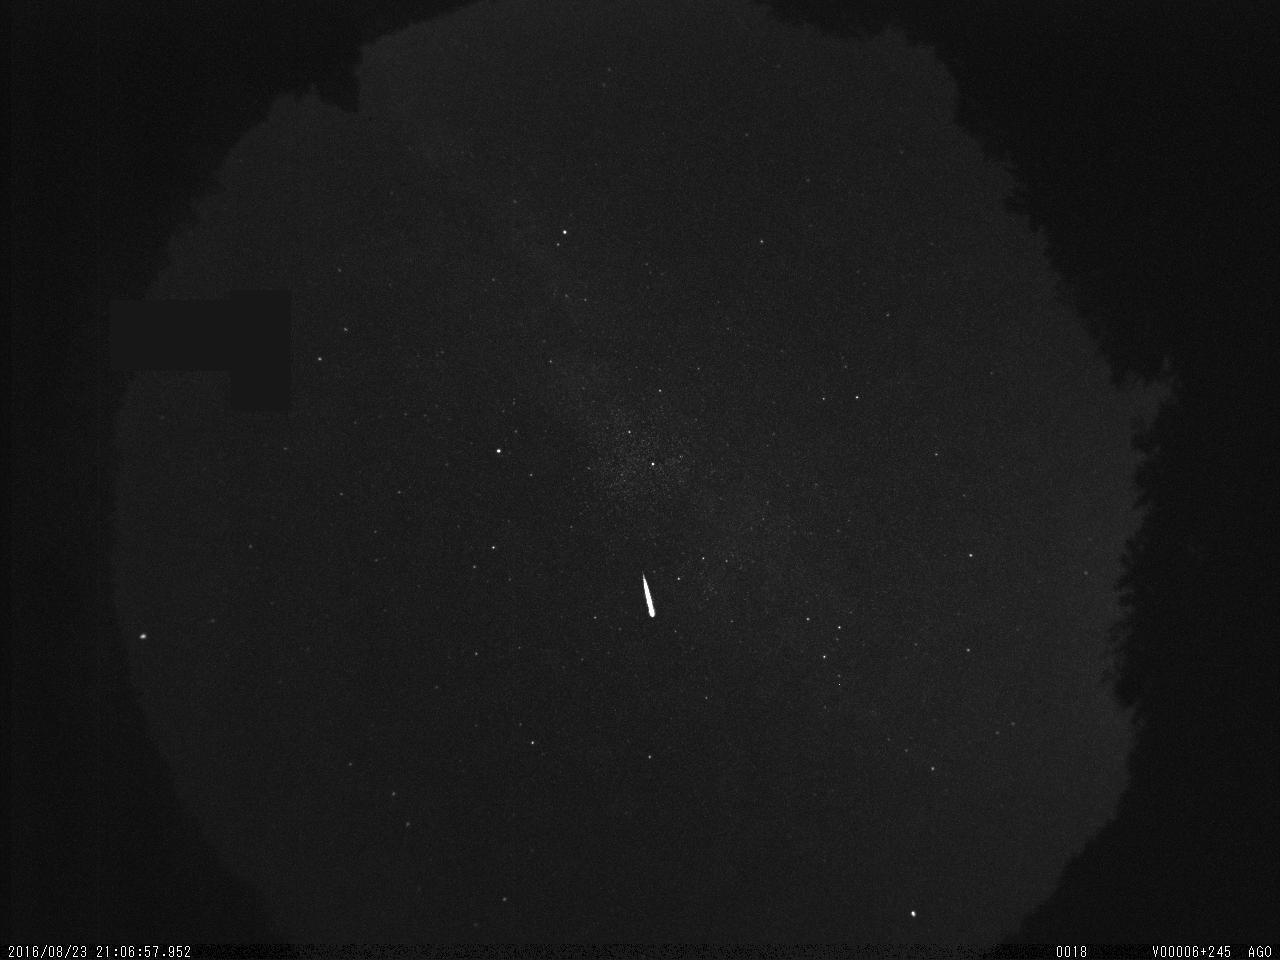meteor: (615, 567, 678, 627)
